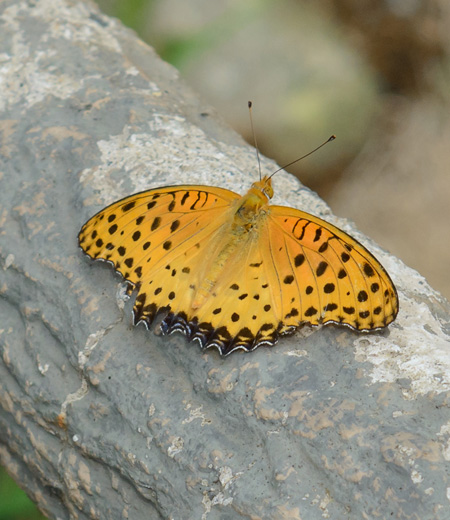Argyreus hyperbius: (69, 93, 399, 353)
butterfly: (71, 95, 401, 355)
